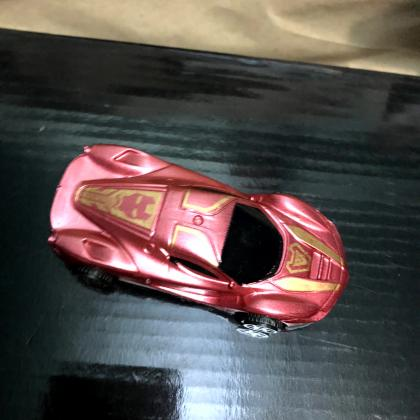Car: (48, 145, 350, 332)
